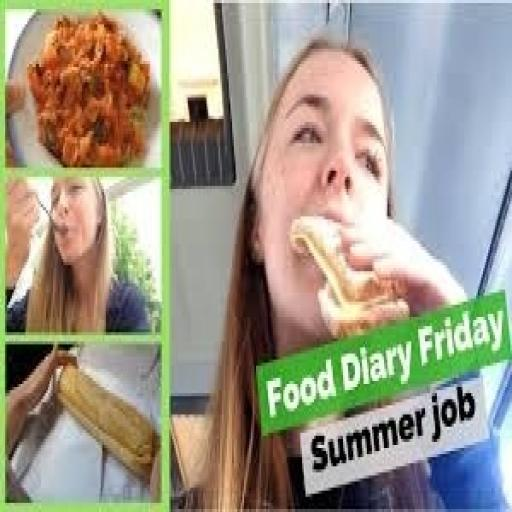eating: (188, 30, 502, 506), (5, 171, 152, 335)
